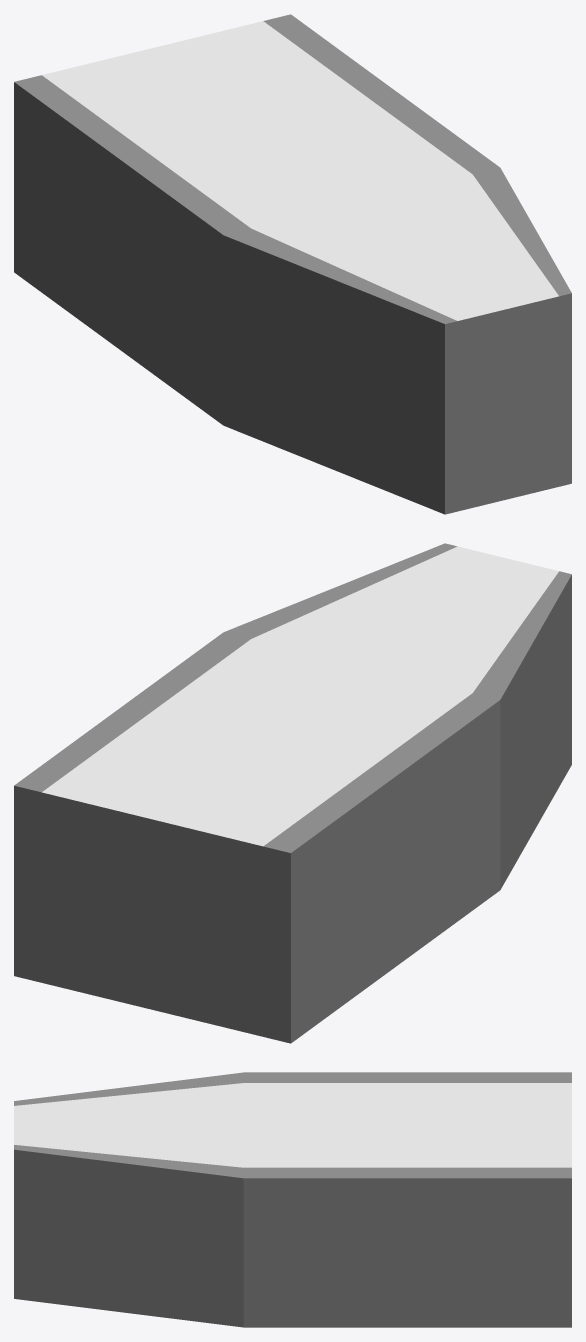
The model's file is startchunk.fbx.
The picture shows the model from 3 angles, top to bottom: view 1: azimuth 30°, elevation 25°; view 2: azimuth 150°, elevation 25°; view 3: azimuth 270°, elevation 25°; orthographic projection. The views are drawn at different scales.
Parts seen in each view (by area): view 1: startchunk; view 2: startchunk; view 3: startchunk.
Part boxes in pixels (bbox=[...]): startchunk: bbox=[14, 14, 571, 514]; startchunk: bbox=[14, 543, 571, 1043]; startchunk: bbox=[14, 1072, 571, 1327].
Size of the model in its own units: 109 by 243 by 71.67.
